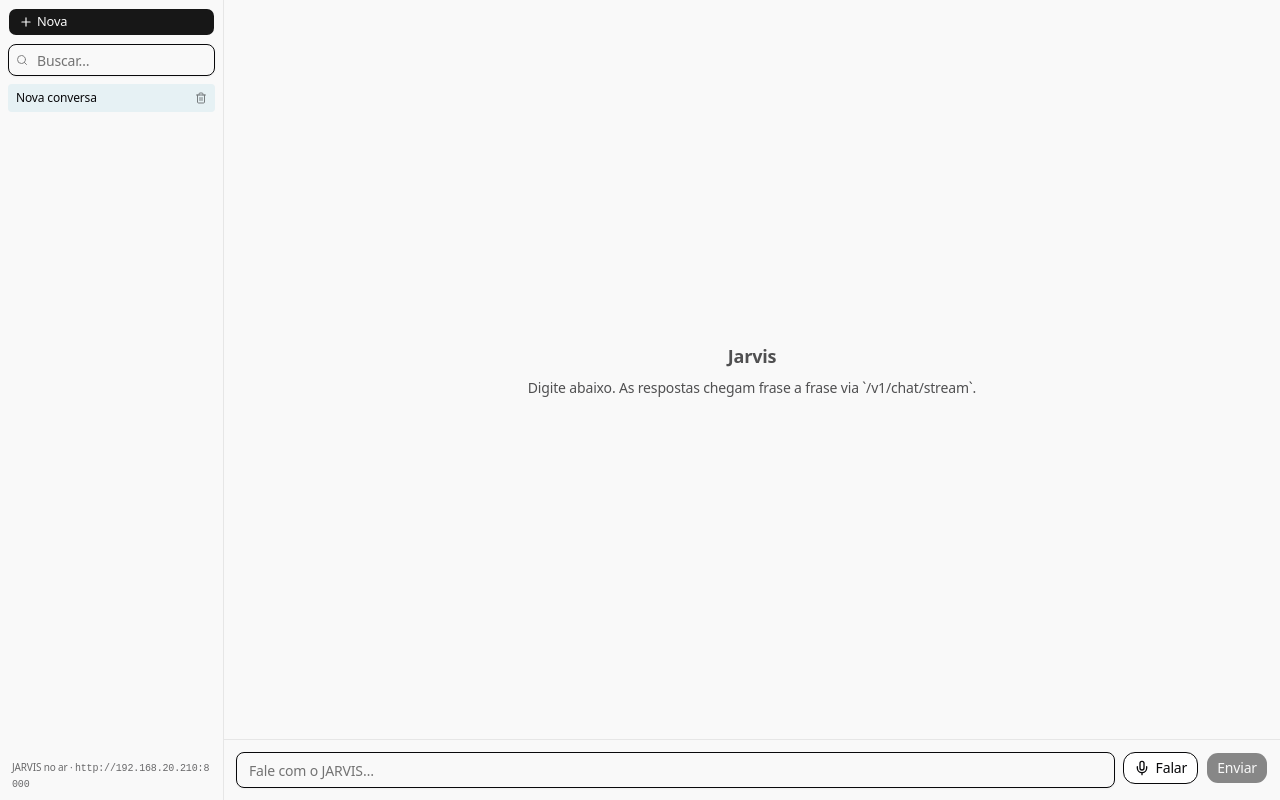
Test case: ChatPage › botão Parar gera "(interrompido)"
The width and height of the screenshot is (1280, 800).
Type "oi" into the field with placeholder "Fale com o JARVIS…". click: (675, 770)
box: [236,752,1115,788]
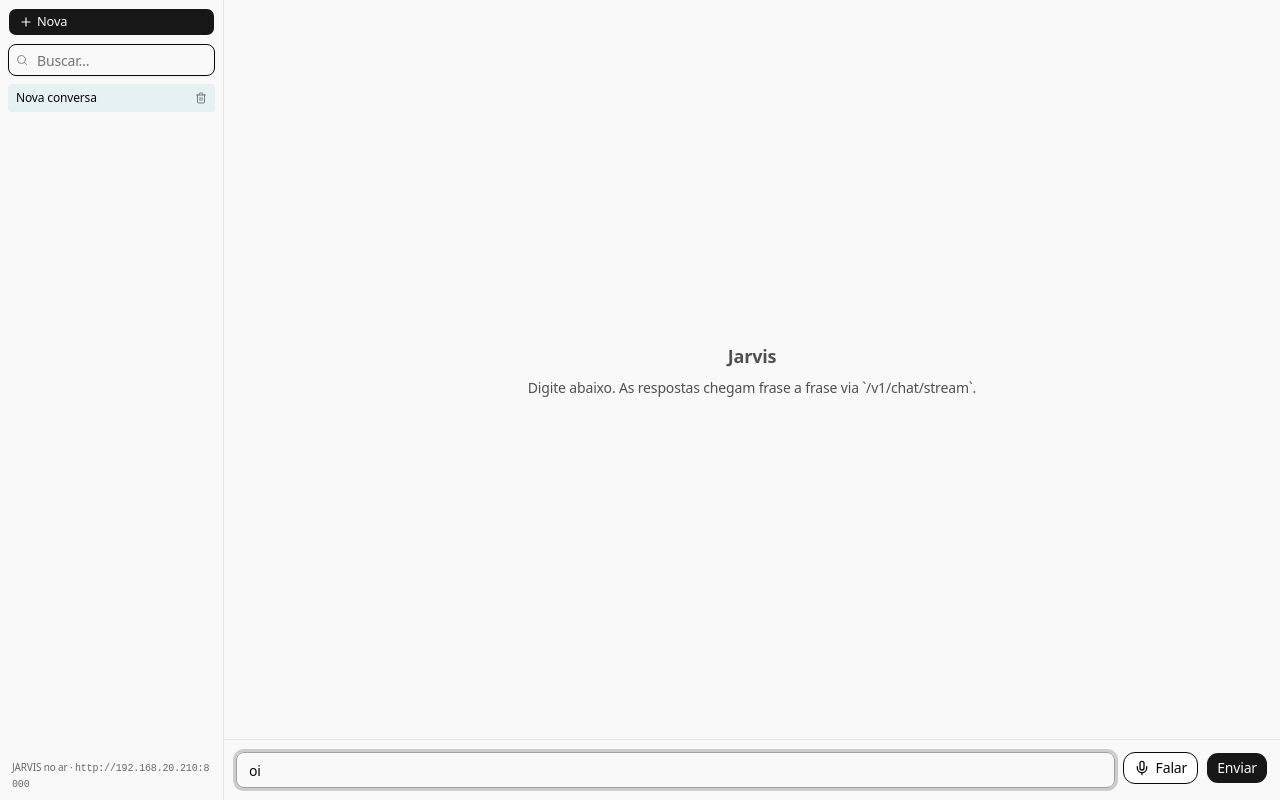
Click the button "Enviar". click: (1237, 768)
box: [1206,752,1268,784]
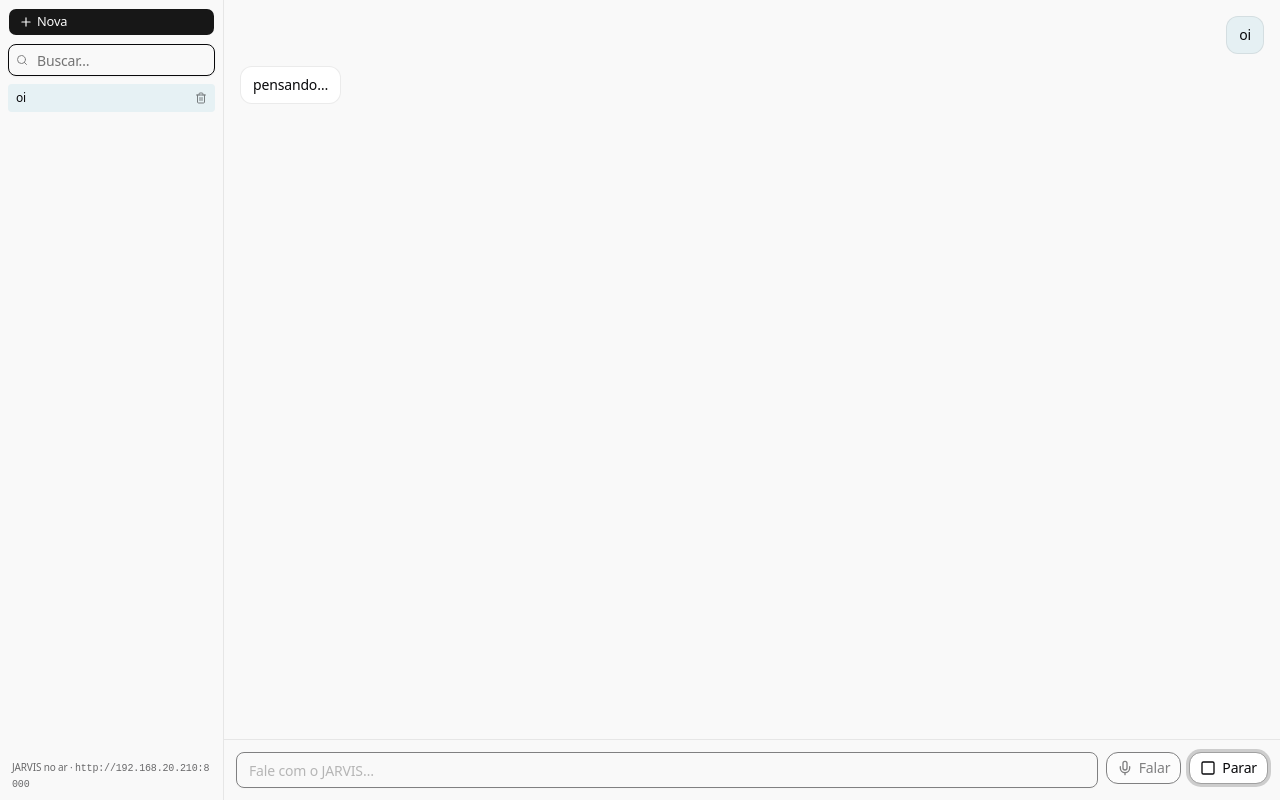
Click the button "Parar". click: (1229, 768)
box: [1189,752,1268,784]
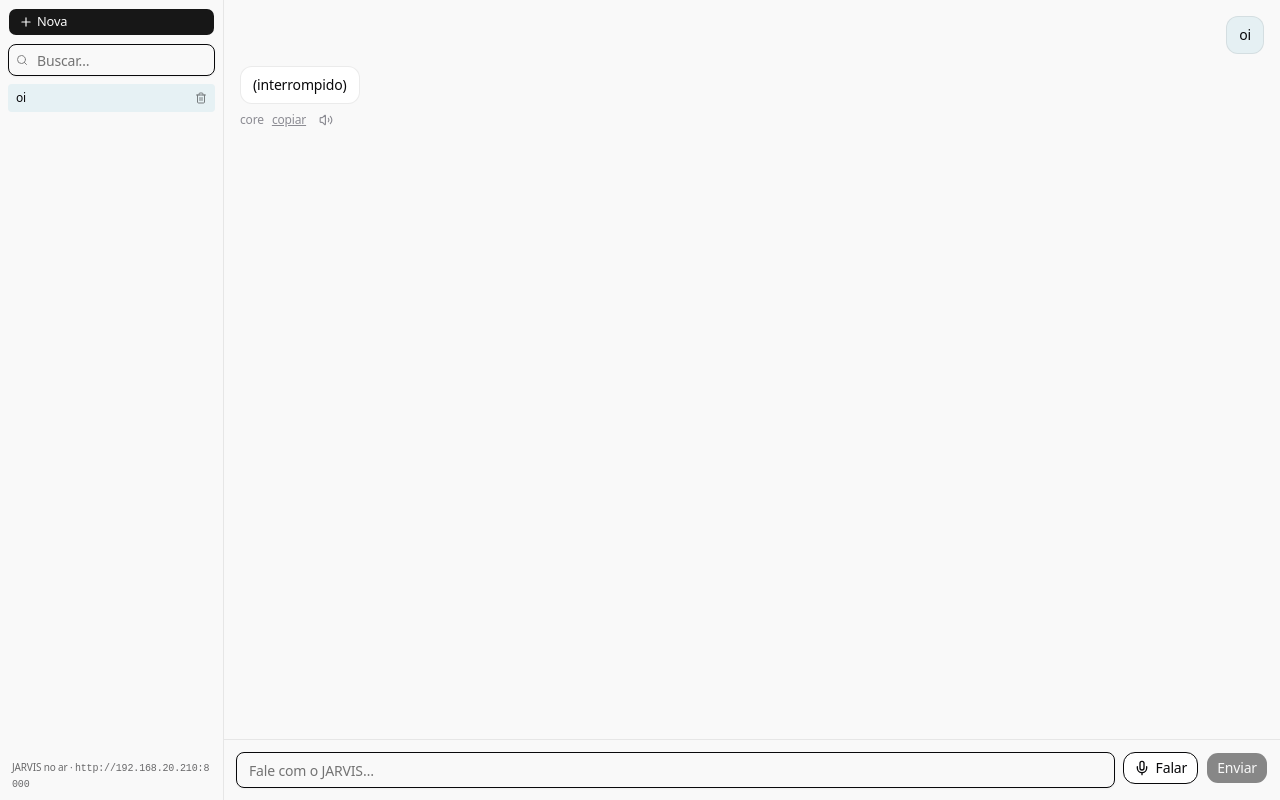
Now the text "(interrompido)" is shown, box [240,66,360,104]
Now the button "Enviar" is shown, box [1206,752,1268,784]
